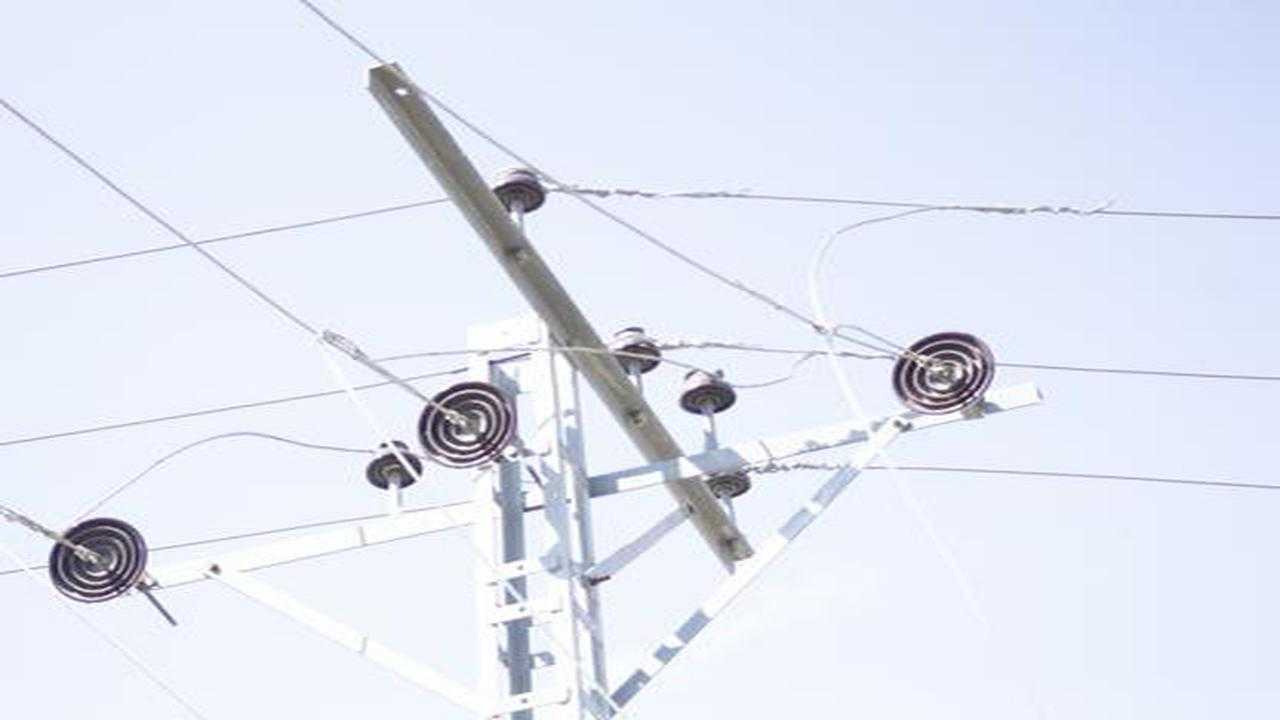insulator_disc: (892, 325, 1000, 422), (46, 515, 153, 610), (415, 379, 521, 472)
insulator_pin: (679, 363, 742, 418), (364, 437, 421, 494), (492, 162, 546, 215), (605, 323, 661, 374)
